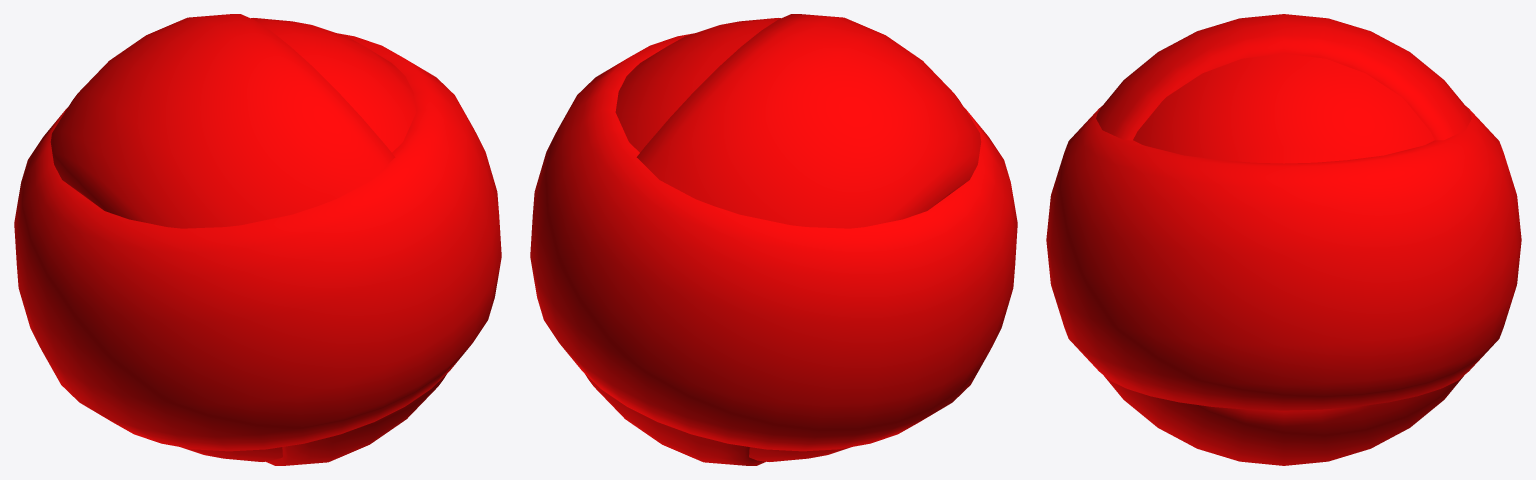
Rendered from yarn_ball.glb.
3 renders of one model, left to right at view 1: azimuth 30°, elevation 25°; view 2: azimuth 150°, elevation 25°; view 3: azimuth 270°, elevation 25°, orthographic. The views are drawn at different scales.
Parts seen in each view (by area): view 1: yarn_ball; view 2: yarn_ball; view 3: yarn_ball.
Part boxes in pixels (x1=…): yarn_ball: x1=14, y1=14, x2=501, y2=465; yarn_ball: x1=530, y1=14, x2=1017, y2=465; yarn_ball: x1=1046, y1=14, x2=1521, y2=465.
Size of the model in its own units: 1.1 by 1.04 by 1.1.
